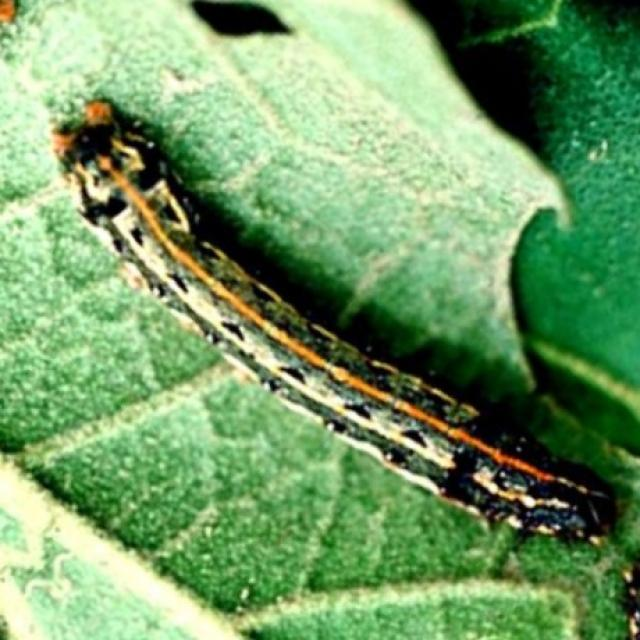Armyworm: (63, 65, 626, 580)
